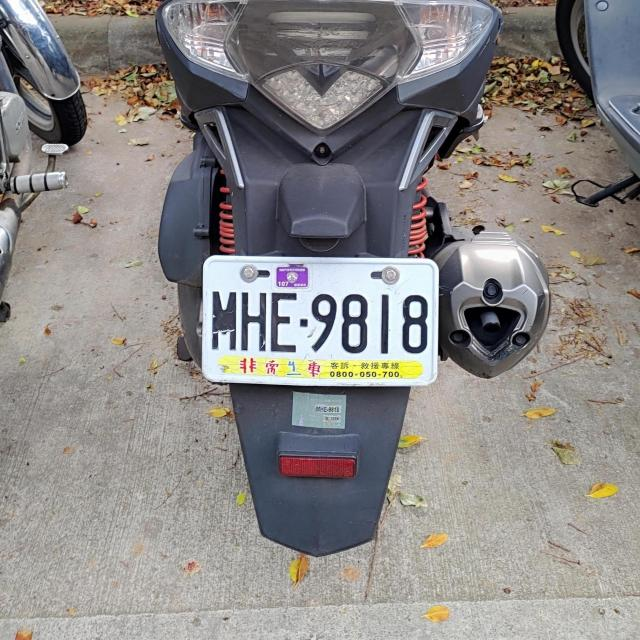W: (200, 255, 439, 388)
